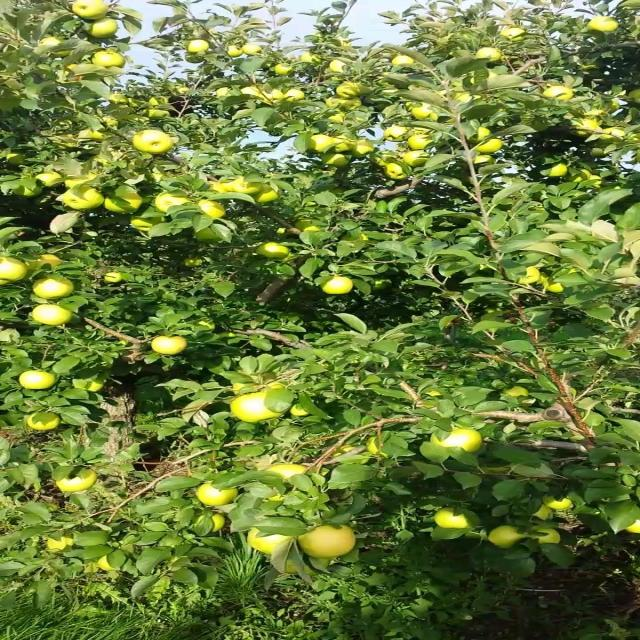apple: (298, 525, 356, 557), (231, 391, 282, 422), (224, 371, 284, 395), (431, 429, 482, 452), (247, 528, 291, 553), (62, 184, 104, 210), (104, 186, 142, 212), (198, 482, 238, 506), (133, 130, 173, 154), (56, 470, 98, 492), (487, 525, 527, 548), (31, 305, 73, 325), (538, 268, 572, 292), (33, 279, 73, 299), (71, 0, 109, 19), (433, 509, 469, 529), (24, 411, 60, 431), (151, 336, 187, 355), (20, 370, 56, 389), (520, 502, 553, 522), (156, 192, 189, 212), (64, 171, 98, 189), (89, 18, 118, 39), (267, 464, 307, 479), (336, 81, 369, 99), (91, 50, 124, 68), (229, 176, 262, 194), (256, 242, 289, 259), (131, 214, 164, 231), (322, 276, 353, 294), (198, 200, 227, 219), (307, 134, 336, 152), (407, 127, 433, 147), (539, 274, 567, 292), (587, 16, 618, 32), (573, 119, 600, 137), (253, 185, 280, 203), (542, 85, 573, 100), (29, 255, 62, 269), (402, 150, 429, 167), (324, 98, 362, 110), (518, 266, 542, 284), (369, 150, 396, 166), (411, 104, 438, 120), (327, 98, 362, 110), (36, 170, 62, 186), (407, 134, 433, 150), (323, 152, 349, 168), (542, 496, 573, 509), (73, 379, 104, 392), (384, 125, 409, 141), (367, 436, 387, 456), (384, 162, 407, 179), (333, 135, 356, 152), (47, 536, 73, 551), (536, 528, 560, 544), (500, 26, 527, 40), (293, 219, 322, 232), (476, 139, 502, 153), (196, 228, 222, 242), (351, 140, 373, 156), (502, 385, 529, 398), (600, 126, 627, 139), (340, 229, 369, 241), (13, 185, 42, 197), (476, 48, 502, 61), (334, 442, 356, 457), (453, 91, 480, 103), (471, 126, 491, 142), (307, 558, 333, 570), (211, 512, 227, 531), (96, 556, 116, 571), (533, 505, 553, 520), (599, 99, 620, 113), (207, 180, 231, 192), (38, 36, 62, 48), (187, 39, 209, 52), (240, 42, 262, 55), (300, 51, 322, 64), (107, 92, 129, 105), (192, 318, 215, 330), (391, 55, 416, 66), (584, 171, 602, 186), (588, 145, 610, 157), (264, 89, 284, 102), (78, 129, 104, 139), (240, 86, 262, 97), (418, 388, 442, 398), (50, 46, 70, 58), (284, 89, 304, 101), (273, 64, 293, 76), (4, 152, 24, 164), (571, 170, 591, 182), (184, 52, 204, 64), (549, 164, 567, 177), (329, 59, 347, 72), (274, 225, 295, 236), (91, 154, 110, 166), (624, 520, 640, 534), (227, 45, 244, 58), (102, 271, 122, 282), (147, 109, 169, 119), (289, 405, 309, 416), (577, 61, 598, 71), (149, 96, 169, 106), (473, 154, 493, 164), (544, 282, 564, 292), (171, 84, 189, 95), (100, 115, 118, 126), (78, 128, 96, 138), (620, 0, 640, 9), (184, 258, 202, 267), (284, 560, 296, 573), (329, 112, 344, 122), (216, 88, 231, 97), (269, 495, 282, 501)
